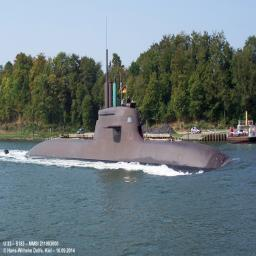submarine: (4, 48, 240, 172)
